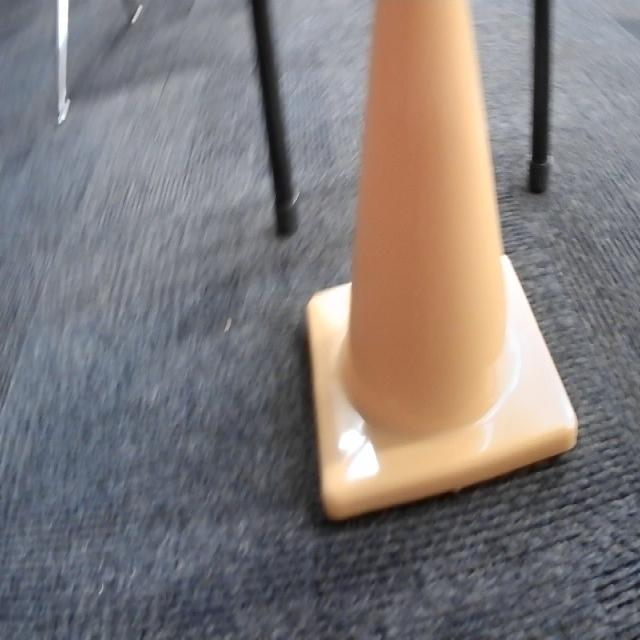cone: (293, 0, 583, 529)
